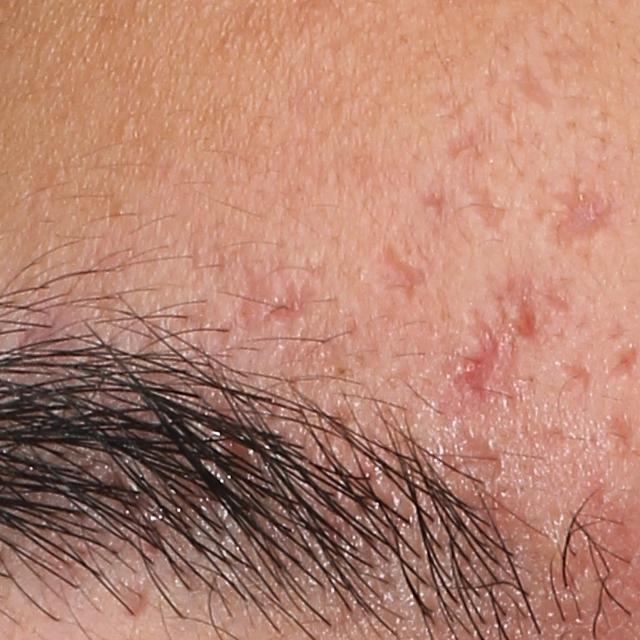atrophic_scar: (227, 262, 319, 334), (547, 175, 616, 257), (451, 305, 503, 408), (361, 234, 433, 302), (456, 178, 510, 234), (459, 428, 511, 482), (507, 62, 558, 112), (442, 119, 495, 163), (557, 345, 598, 400), (418, 186, 456, 226), (603, 342, 638, 383), (124, 582, 149, 617)
